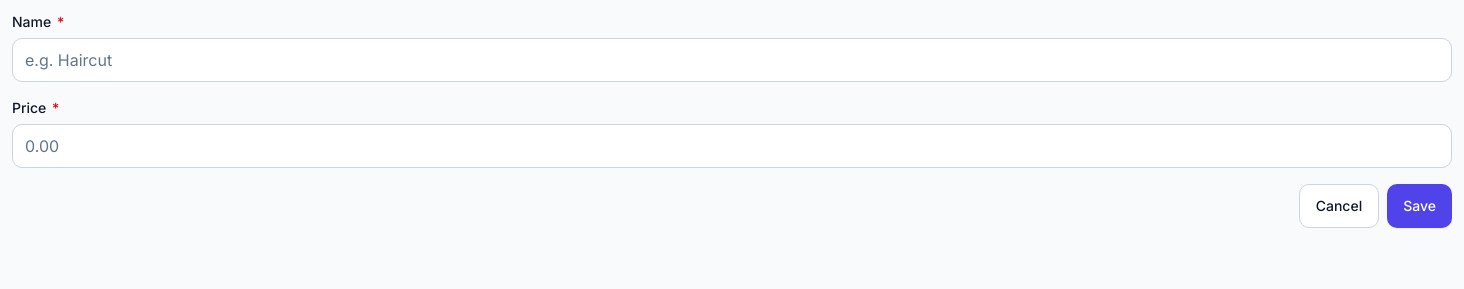
Scenario: ServiceForm › rejects an empty name and a non-positive price
Click the button "Save": (1420, 206) x1=1387 y1=184 x2=1452 y2=228
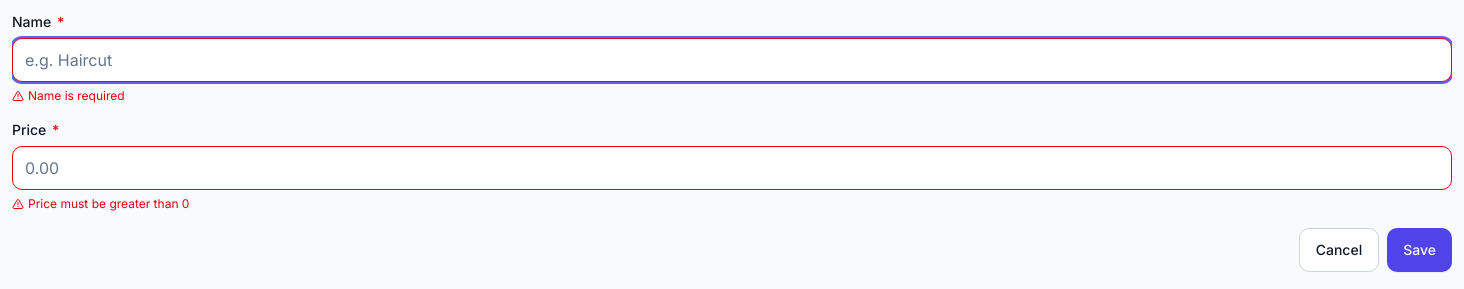
Now the text "Name is required" is shown, box x1=12 y1=88 x2=125 y2=103
Now the text "Price must be greater than 0" is shown, box x1=12 y1=196 x2=189 y2=211
